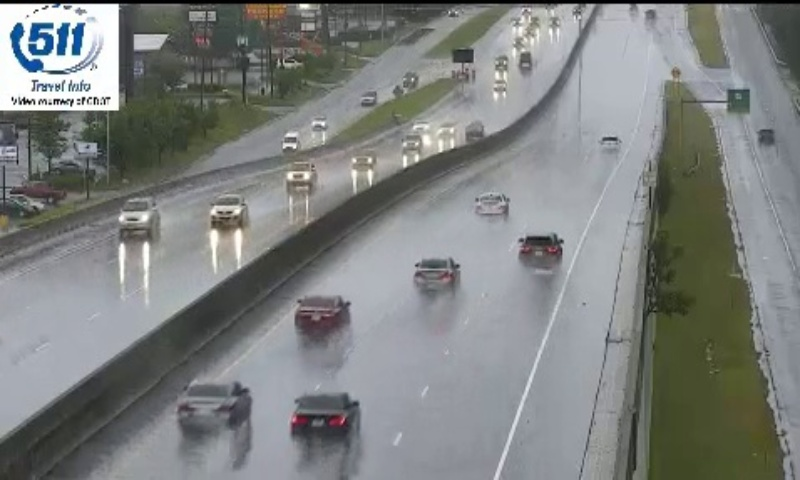car: (177, 380, 251, 430), (291, 392, 359, 441), (294, 295, 349, 333), (413, 257, 460, 293), (518, 232, 562, 268), (475, 192, 508, 217)
